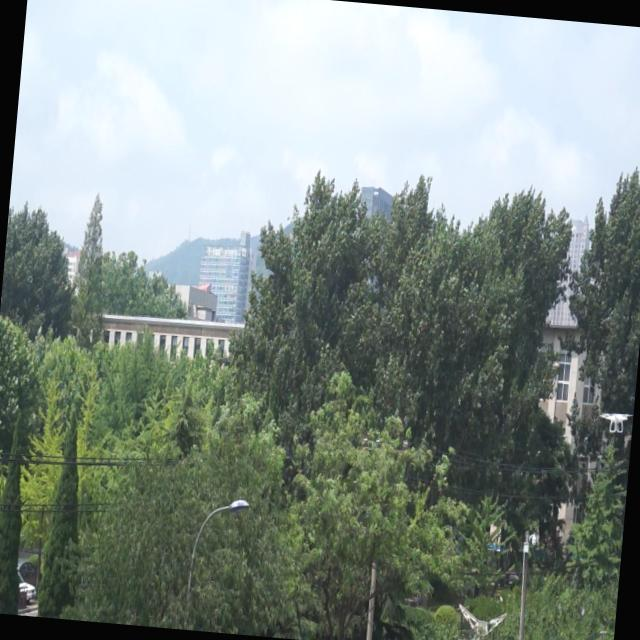drone: (598, 404, 634, 436)
